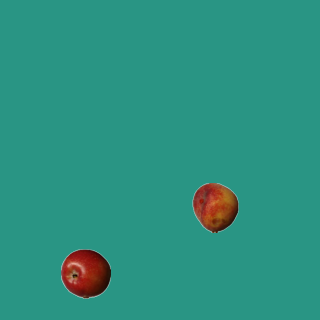Apple Braeburn: (60, 248, 110, 298)
Peach: (190, 182, 240, 232)
